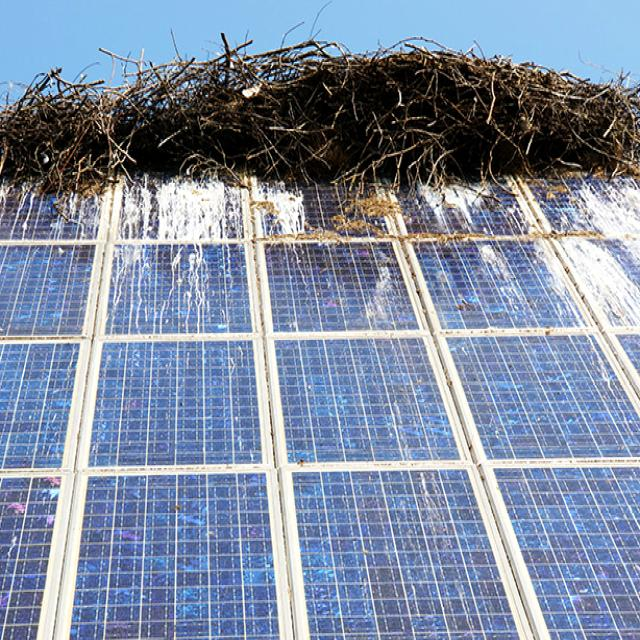bird: (114, 184, 252, 318), (544, 178, 640, 333), (416, 178, 532, 304), (258, 193, 394, 238), (354, 258, 404, 326)
